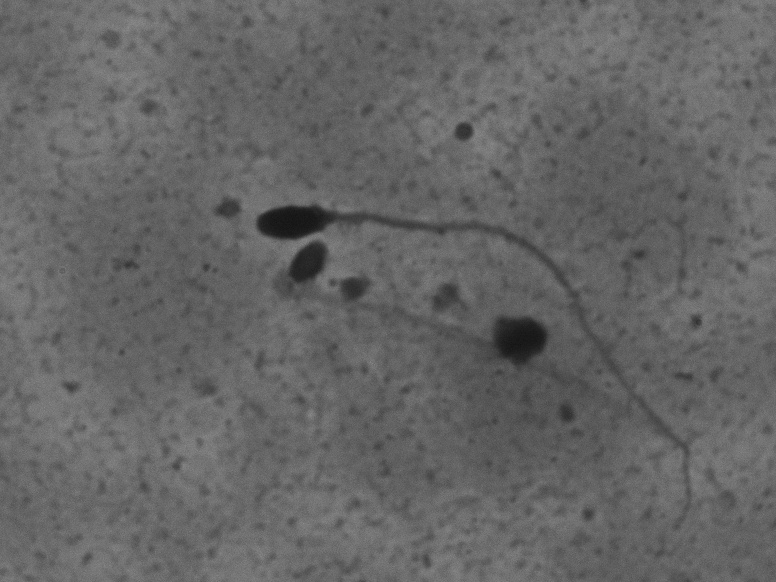Abnormal: (249, 193, 714, 543)
